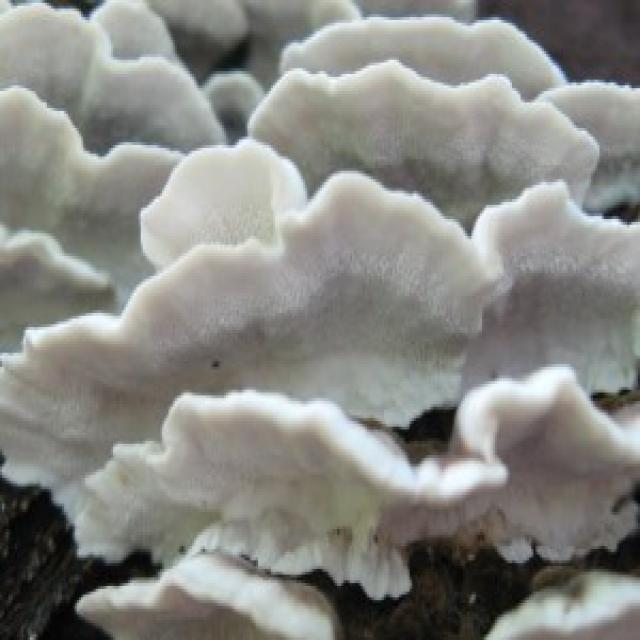Bleached: (3, 140, 639, 595), (248, 21, 639, 223), (1, 4, 223, 348), (80, 556, 342, 638), (485, 573, 639, 638)
